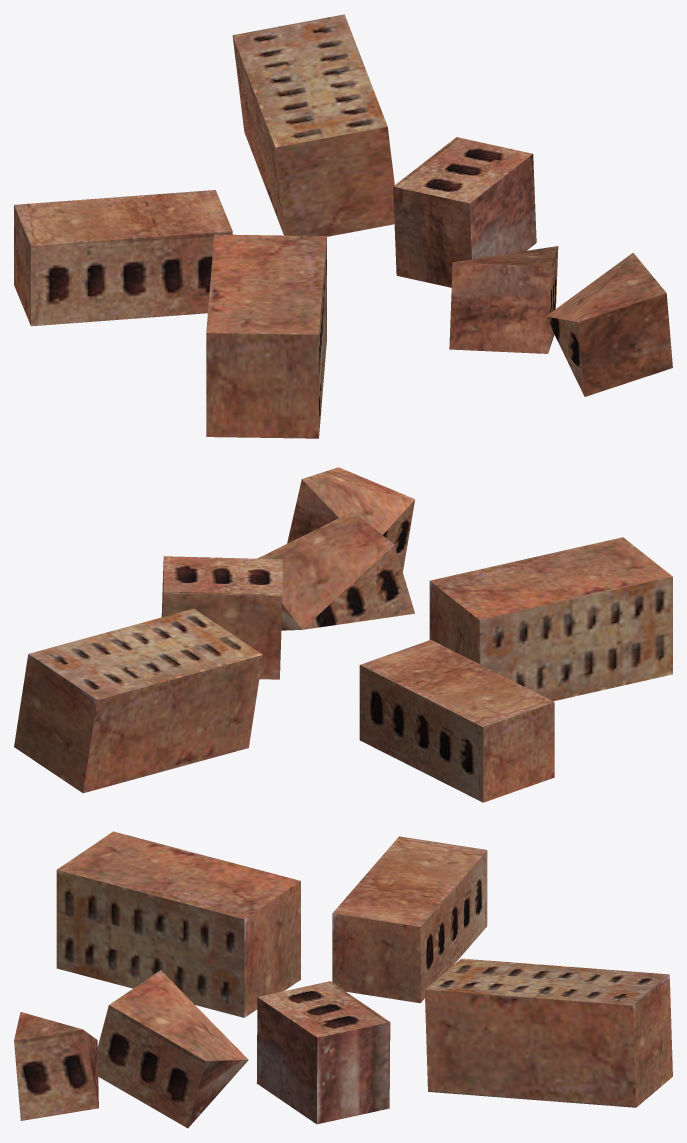
Rendered from Debris2_7_LOD1.fbx.
3 views of the same model, one above another, from view 1: azimuth 30°, elevation 25°; view 2: azimuth 150°, elevation 25°; view 3: azimuth 270°, elevation 25° (orthographic). The views are drawn at different scales.
Visible parts, largest first — view 1: polySurface304; view 2: polySurface304; view 3: polySurface304.
Part boxes in pixels (x1=…): polySurface304: x1=14, y1=14, x2=672, y2=438; polySurface304: x1=14, y1=467, x2=672, y2=802; polySurface304: x1=14, y1=831, x2=672, y2=1128.
Size of the model in its own units: 0.9527 by 0.2784 by 1.24.
